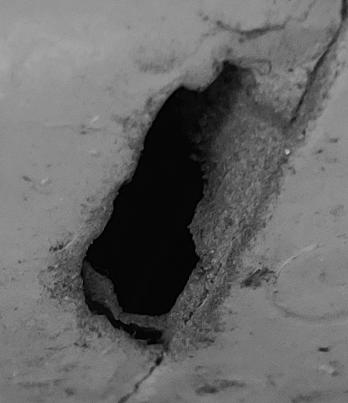crack: (1, 1, 348, 403)
